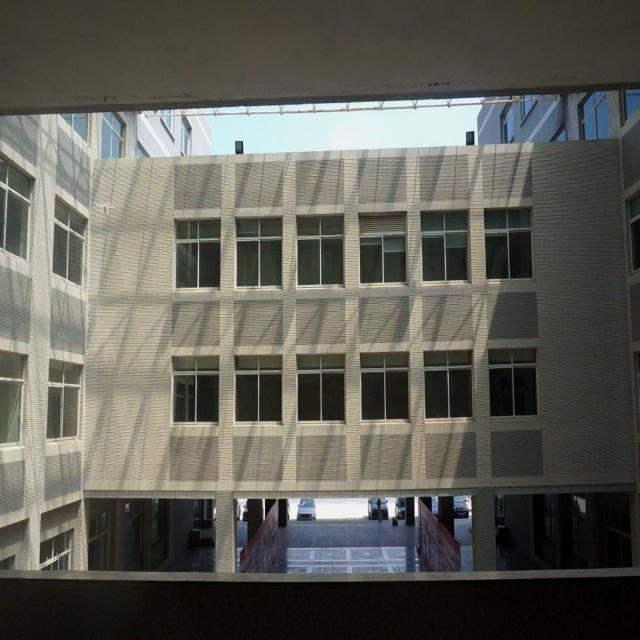drone: (96, 198, 112, 218)
